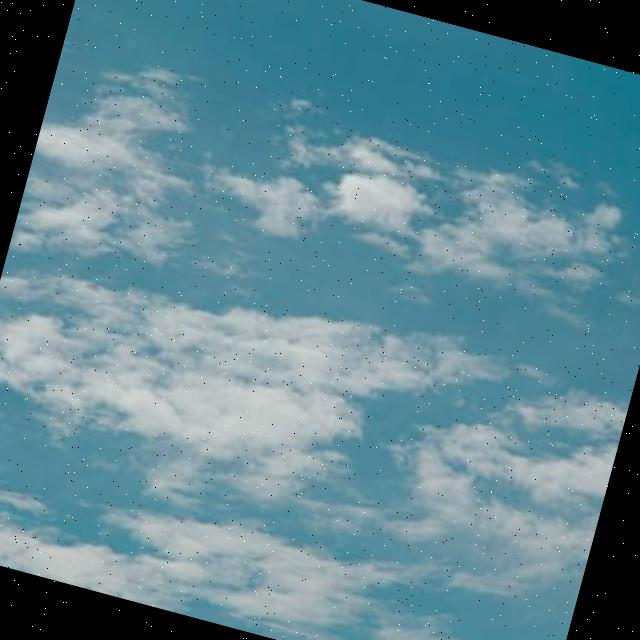Cc: (1, 28, 640, 640)
